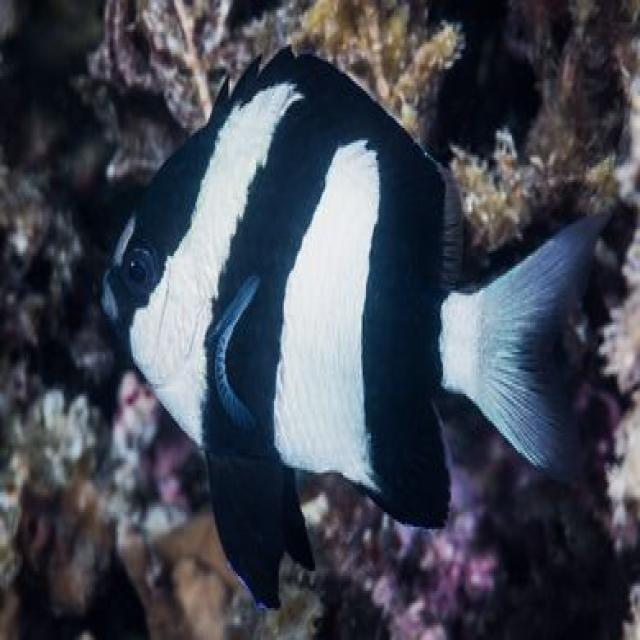ThreeStripedDamselfish: (100, 47, 619, 613)
